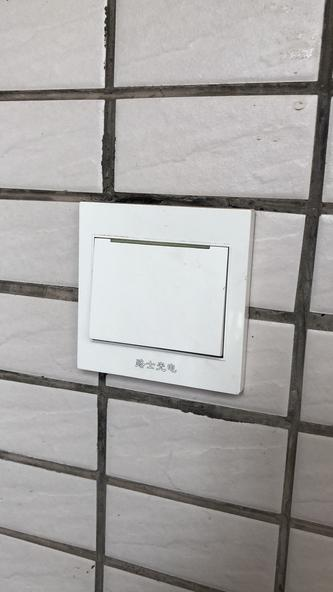switch: (87, 230, 229, 358)
